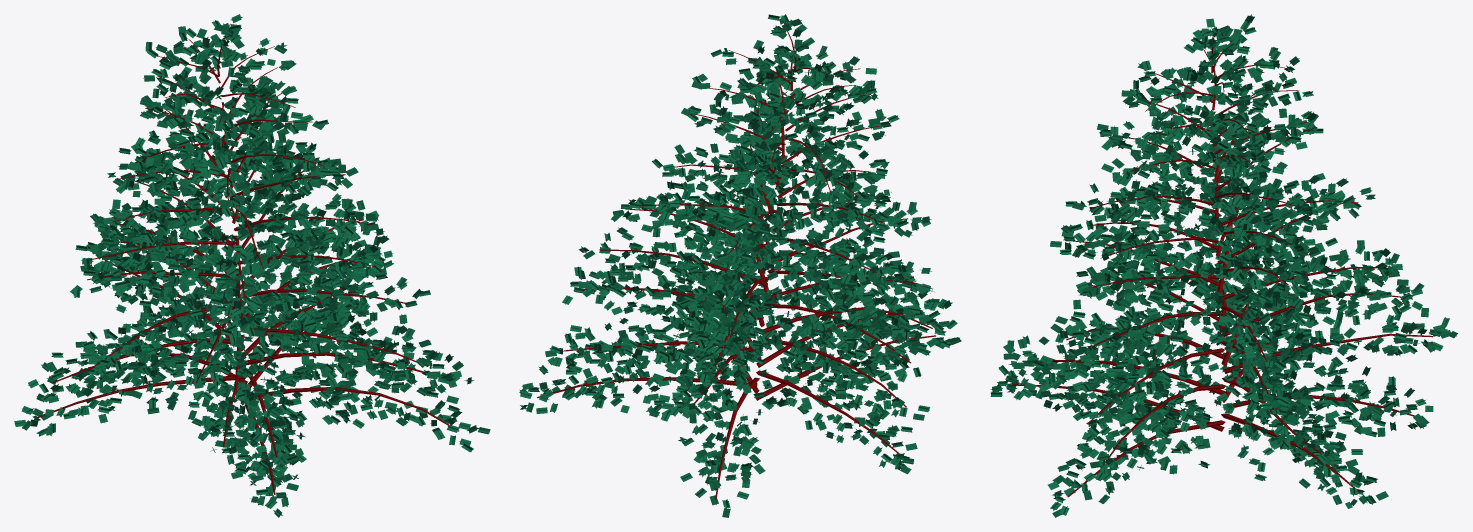
The model's file is Busch 7.FBX.
The picture shows the model from 3 angles, left to right: view 1: azimuth 30°, elevation 25°; view 2: azimuth 150°, elevation 25°; view 3: azimuth 270°, elevation 25°; orthographic projection. The views are drawn at different scales.
Visible parts, largest first — view 1: Foliage010; view 2: Foliage010; view 3: Foliage010.
Boxes of the visible parts, left/top/right/bottom form: Foliage010: left=14, top=14, right=490, bottom=517; Foliage010: left=519, top=14, right=961, bottom=517; Foliage010: left=990, top=14, right=1457, bottom=517.
Size of the model in its own units: 239 by 257 by 256.
